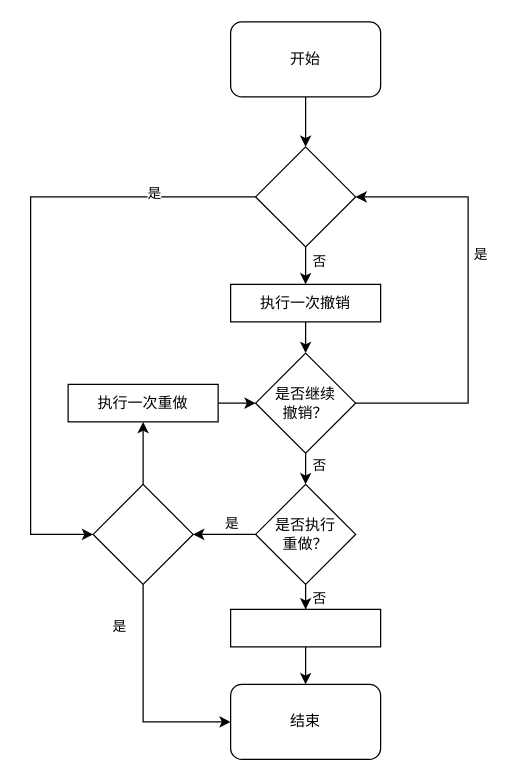
The diagram is 509 pixels wide and 781 high, and some of its shapes have lost their labels. Here are the shapes that lost their labels. From the top down, the centre of each, then its label:
[305,196]: Undo栈是 否为空？
[142,533]: Redo栈是 否为空？
[305,627]: 清空Redo栈
